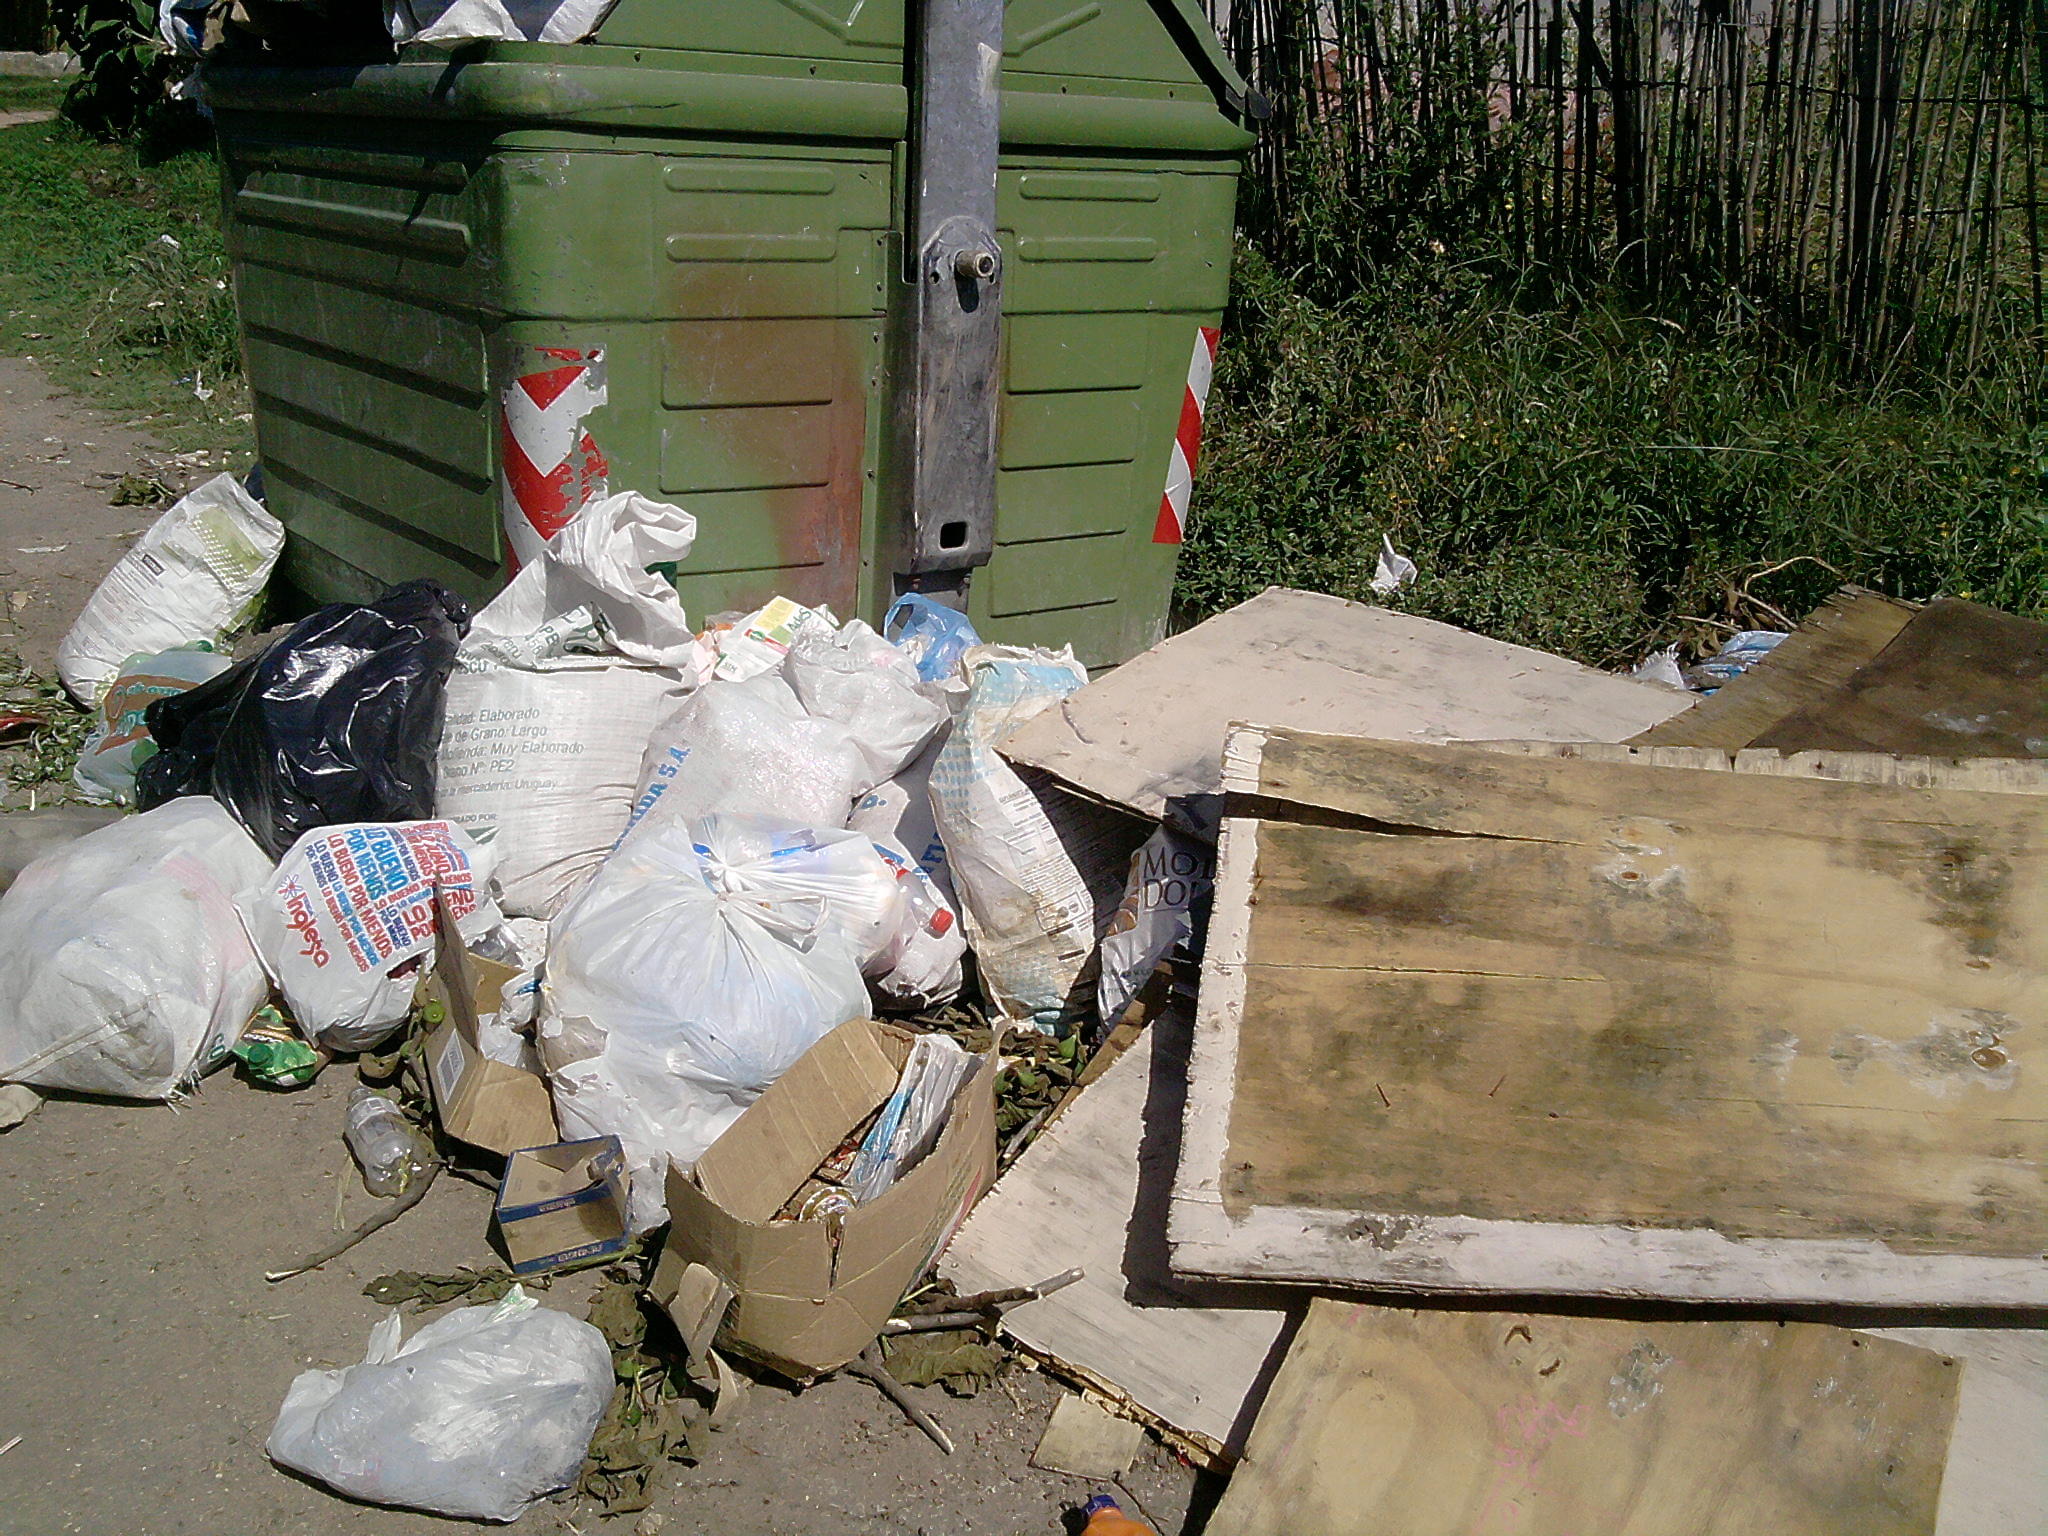container: (184, 2, 1274, 733)
